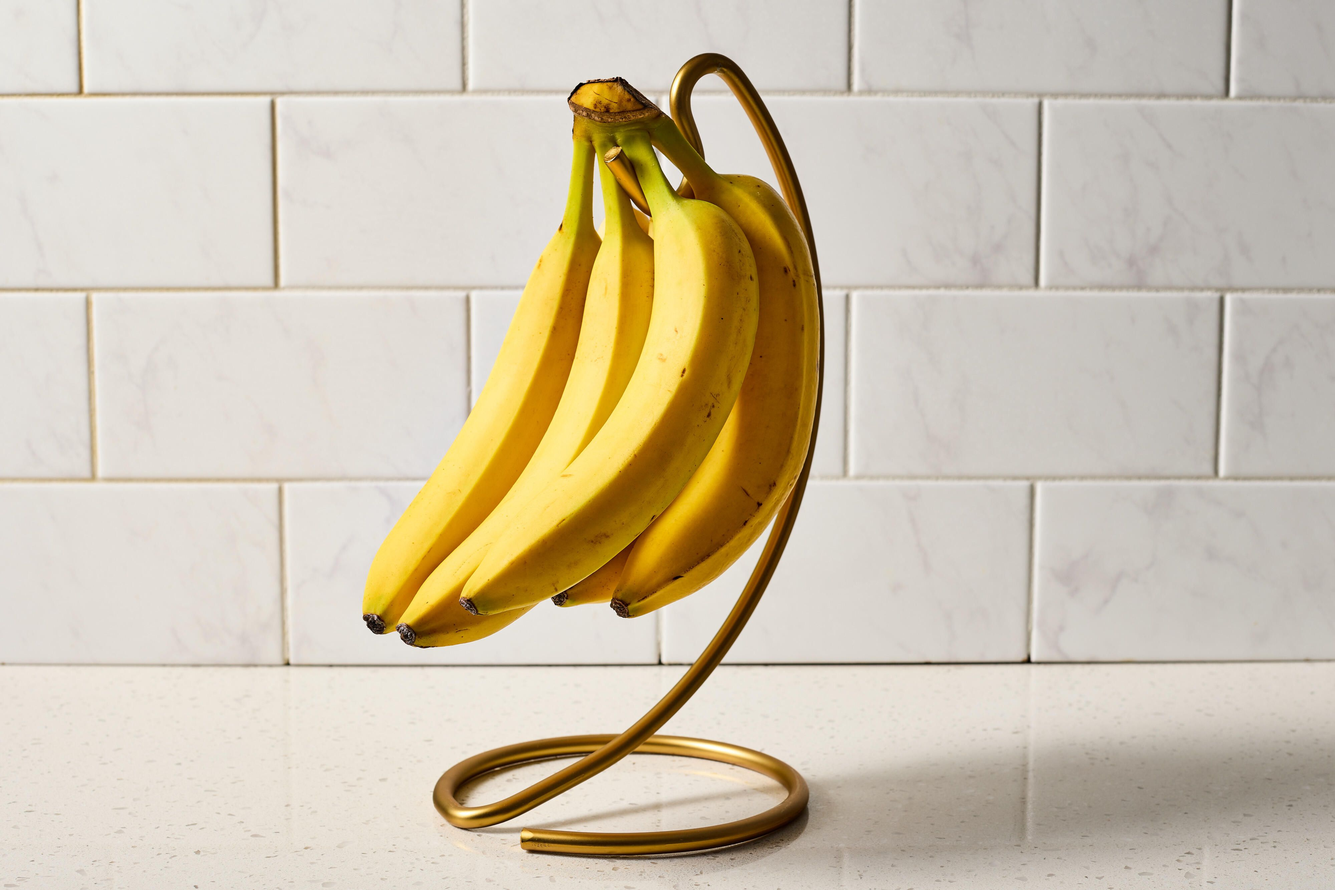banana: (362, 81, 821, 652)
